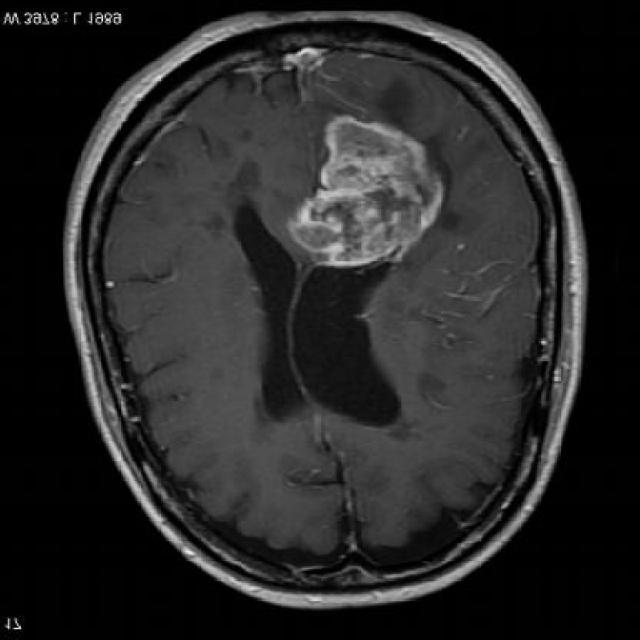Tumor: (300, 107, 448, 264)
